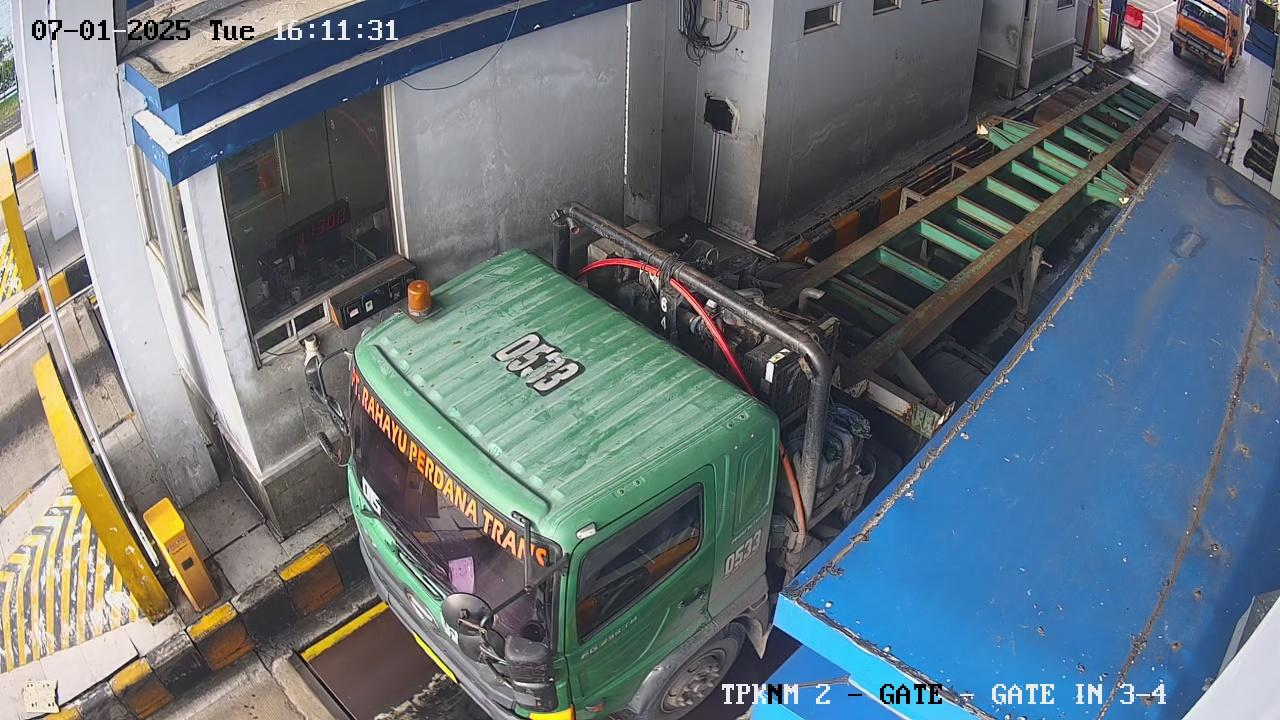truck_id: (492, 332, 584, 395), (722, 523, 766, 576)
